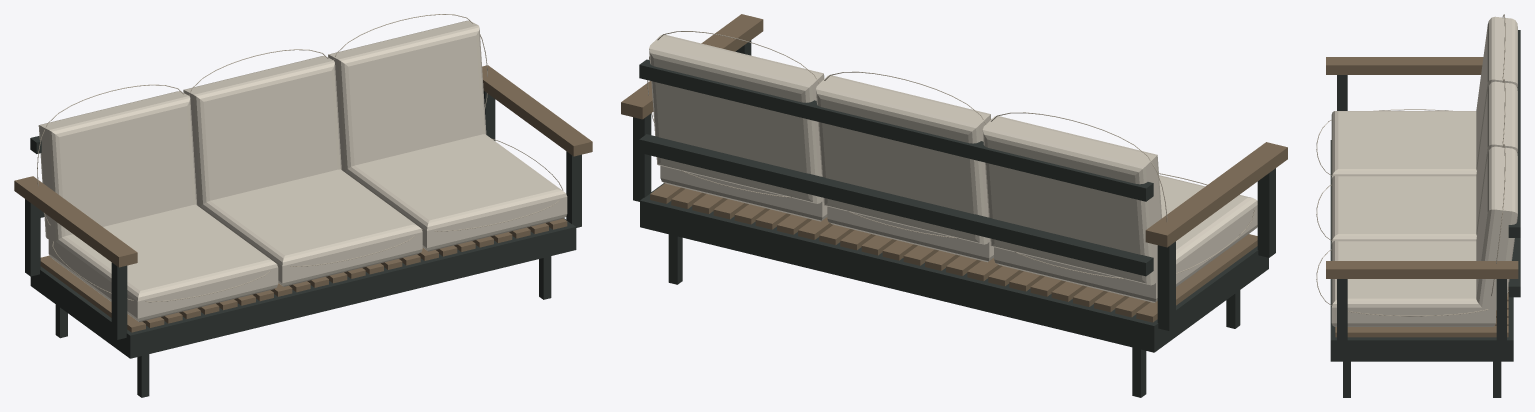
File: outdoor-sofa-lod1.glb
3 views of the same model, side by side, from view 1: azimuth 30°, elevation 25°; view 2: azimuth 150°, elevation 25°; view 3: azimuth 270°, elevation 25° (orthographic). The views are drawn at different scales.
Visible parts, largest first — view 1: Natural woven outdoor cushion, Powder-coated charcoal frame, Warm teak slats, Cushion stitched piping; view 2: Natural woven outdoor cushion, Powder-coated charcoal frame, Warm teak slats, Cushion stitched piping; view 3: Natural woven outdoor cushion, Powder-coated charcoal frame, Warm teak slats, Cushion stitched piping.
Boxes of the visible parts, x1,y1,x2,y2 form: Natural woven outdoor cushion: [38, 20, 567, 321]; Powder-coated charcoal frame: [25, 91, 581, 397]; Warm teak slats: [14, 65, 592, 332]; Cushion stitched piping: [37, 14, 563, 302]; Natural woven outdoor cushion: [649, 34, 1257, 302]; Powder-coated charcoal frame: [633, 40, 1275, 397]; Warm teak slats: [621, 14, 1287, 322]; Cushion stitched piping: [647, 31, 1254, 278]; Natural woven outdoor cushion: [1331, 16, 1517, 326]; Powder-coated charcoal frame: [1330, 30, 1520, 397]; Warm teak slats: [1326, 57, 1518, 337]; Cushion stitched piping: [1316, 14, 1508, 316].
Size of the model in its own units: 2.14 by 0.989 by 0.8703.
